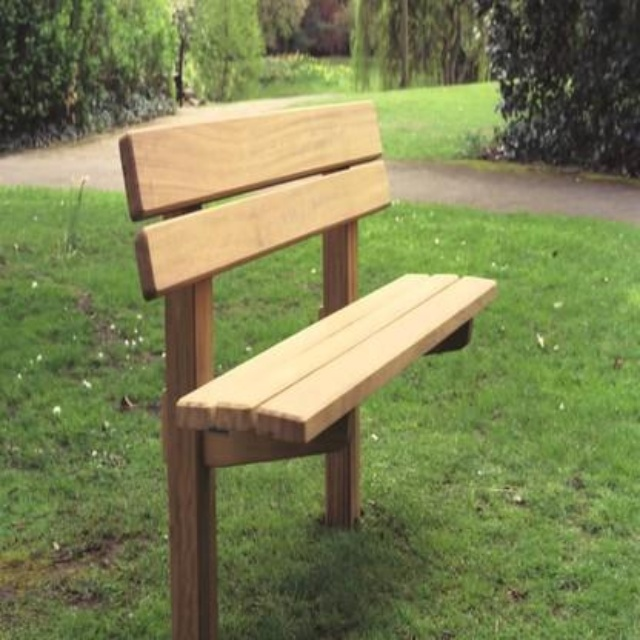obstacle: (100, 108, 508, 609)
